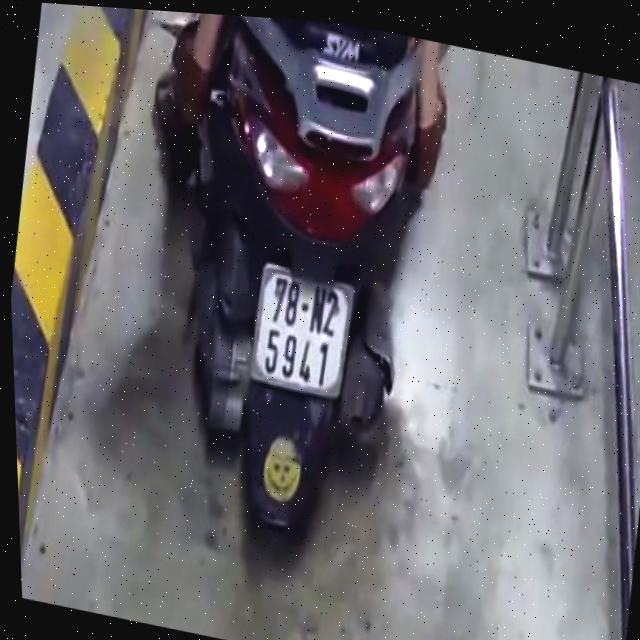motorcycle: (130, 9, 477, 583)
plate: (241, 255, 364, 406)
